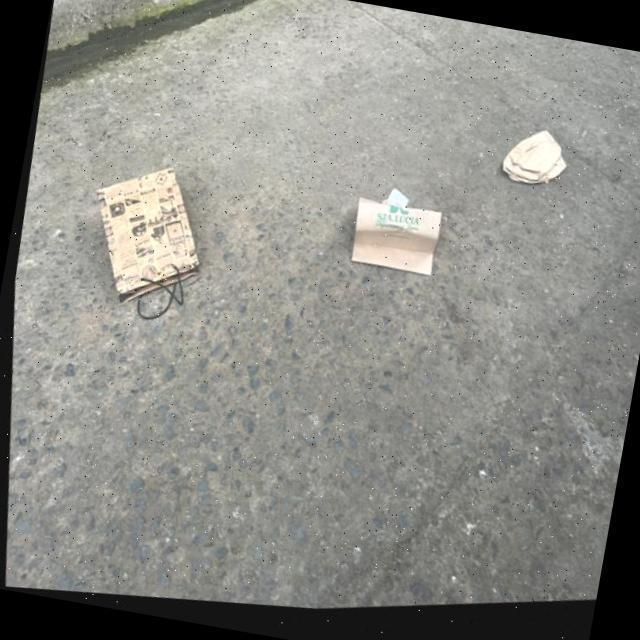Paper_Bag: (73, 146, 224, 340), (328, 177, 454, 306), (494, 128, 572, 206)
